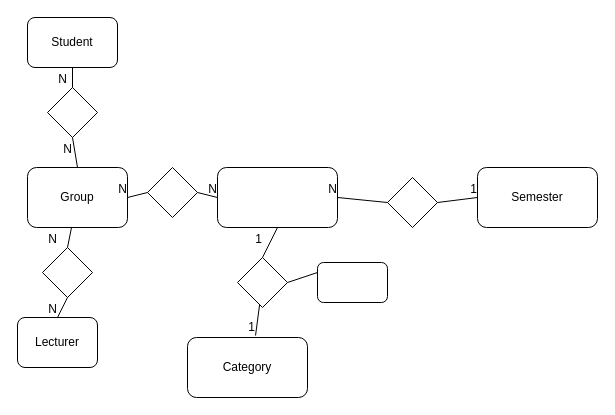
The diagram is 615 pixels wide and 415 high, and some of its shapes have lost their labels. Each missing label, with the centre of its shape:
"Status" belongs at (352,282).
"subject" belongs at (277,197).
